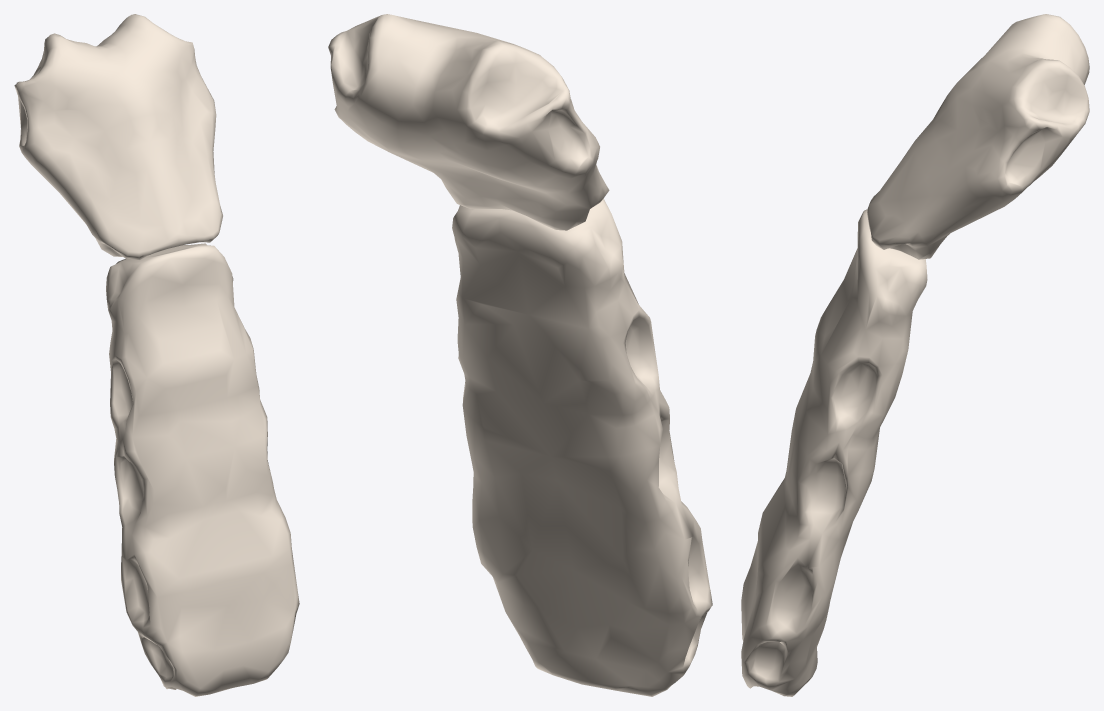
The model's file is sternum.glb.
3 views of the same model, side by side, from view 1: azimuth 30°, elevation 25°; view 2: azimuth 150°, elevation 25°; view 3: azimuth 270°, elevation 25° (orthographic). The views are drawn at different scales.
Parts seen in each view (by area): view 1: Body of sternum, Manubrium of sternum; view 2: Body of sternum, Manubrium of sternum; view 3: Body of sternum, Manubrium of sternum.
Boxes of the visible parts, x1,y1,x2,y2 form: Body of sternum: [106, 243, 299, 696]; Manubrium of sternum: [14, 14, 222, 259]; Body of sternum: [452, 198, 712, 696]; Manubrium of sternum: [328, 14, 609, 230]; Body of sternum: [741, 209, 927, 696]; Manubrium of sternum: [867, 14, 1089, 259].
Size of the model in its own units: 0.056 by 0.1621 by 0.0805.
